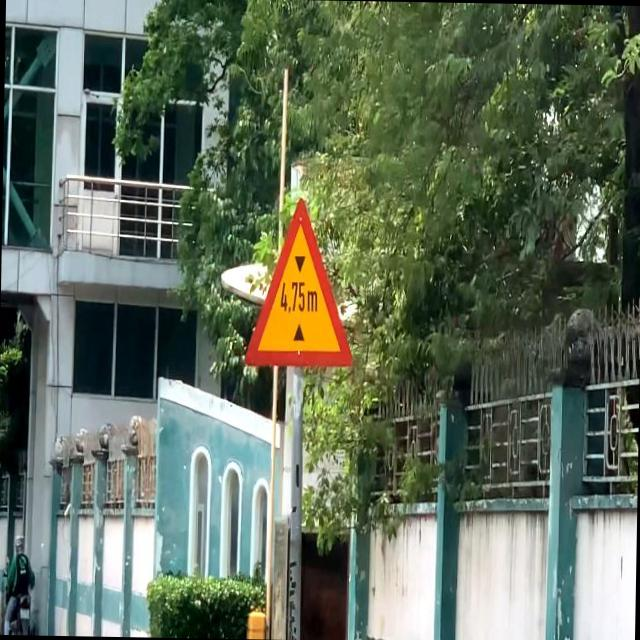W-239b: (245, 196, 354, 368)
